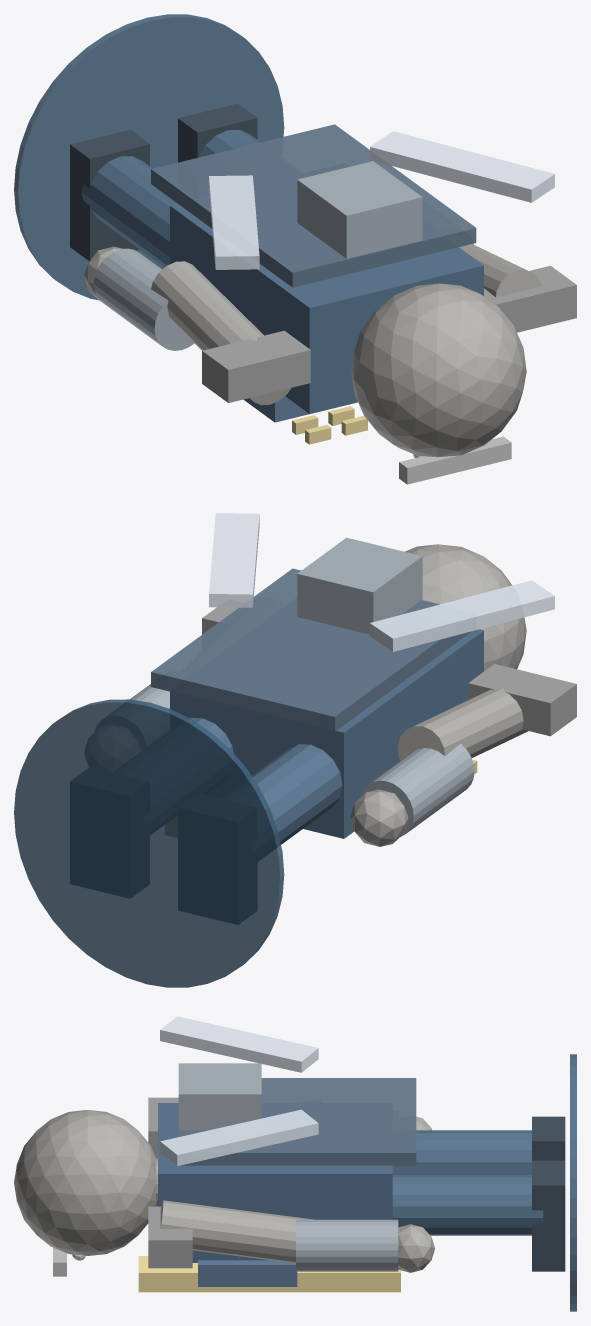
The model's file is SW_NPC_048_rixx_rootwing.glb.
3 renders of one model, top to bottom at view 1: azimuth 30°, elevation 25°; view 2: azimuth 150°, elevation 25°; view 3: azimuth 270°, elevation 25°, orthographic. The views are drawn at different scales.
Visible parts, largest first — view 1: round_base_plate, head, torso_uniform, storm_cloak, wingpack_core, right_wing_rig, left_leg, left_stone_pauldron, left_upper_arm, left_forearm_gauntlet, left_boot, left_wing_rig (+6 smaller); view 2: round_base_plate, storm_cloak, torso_uniform, wingpack_core, left_wing_rig, head, left_leg, left_upper_arm, left_forearm_gauntlet, right_wing_rig, left_stone_pauldron, left_hand; view 3: head, storm_cloak, torso_uniform, right_leg, right_upper_arm, left_leg, right_forearm_gauntlet, wingpack_core, rank_sash, left_wing_rig, right_wing_rig, right_boot (+6 smaller).
Part boxes in pixels (x1=…): round_base_plate: x1=14, y1=14, x2=284, y2=300; head: x1=351, y1=283, x2=526, y2=457; torso_uniform: x1=170, y1=203, x2=483, y2=413; storm_cloak: x1=151, y1=124, x2=476, y2=287; wingpack_core: x1=297, y1=161, x2=422, y2=258; right_wing_rig: x1=370, y1=131, x2=554, y2=202; left_leg: x1=81, y1=156, x2=177, y2=267; left_stone_pauldron: x1=202, y1=330, x2=310, y2=402; left_upper_arm: x1=151, y1=261, x2=290, y2=405; left_forearm_gauntlet: x1=93, y1=248, x2=194, y2=350; left_boot: x1=70, y1=130, x2=149, y2=260; left_wing_rig: x1=209, y1=175, x2=259, y2=269; round_base_plate: x1=14, y1=699, x2=284, y2=987; storm_cloak: x1=151, y1=568, x2=471, y2=731; torso_uniform: x1=170, y1=629, x2=483, y2=838; wingpack_core: x1=297, y1=537, x2=422, y2=634; left_wing_rig: x1=370, y1=580, x2=554, y2=651; head: x1=405, y1=544, x2=526, y2=671; left_leg: x1=251, y1=744, x2=342, y2=844; left_upper_arm: x1=397, y1=688, x2=528, y2=760; left_forearm_gauntlet: x1=360, y1=743, x2=474, y2=836; right_wing_rig: x1=209, y1=513, x2=259, y2=607; left_stone_pauldron: x1=468, y1=664, x2=576, y2=736; left_hand: x1=350, y1=789, x2=408, y2=846; head: x1=14, y1=1110, x2=156, y2=1255; storm_cloak: x1=178, y1=1078, x2=416, y2=1165; torso_uniform: x1=158, y1=1103, x2=392, y2=1262; right_leg: x1=392, y1=1174, x2=543, y2=1235; right_upper_arm: x1=160, y1=1200, x2=313, y2=1263; left_leg: x1=392, y1=1130, x2=531, y2=1174; right_forearm_gauntlet: x1=296, y1=1219, x2=398, y2=1271; wingpack_core: x1=178, y1=1063, x2=261, y2=1130; rank_sash: x1=138, y1=1256, x2=400, y2=1292; left_wing_rig: x1=160, y1=1016, x2=318, y2=1072; right_wing_rig: x1=160, y1=1109, x2=318, y2=1165; right_boot: x1=532, y1=1160, x2=565, y2=1271.
Size of the model in its own units: 1.32 by 1.01 by 2.2.
